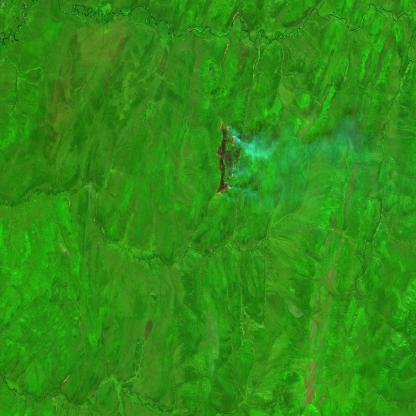fire: (213, 118, 240, 204)
